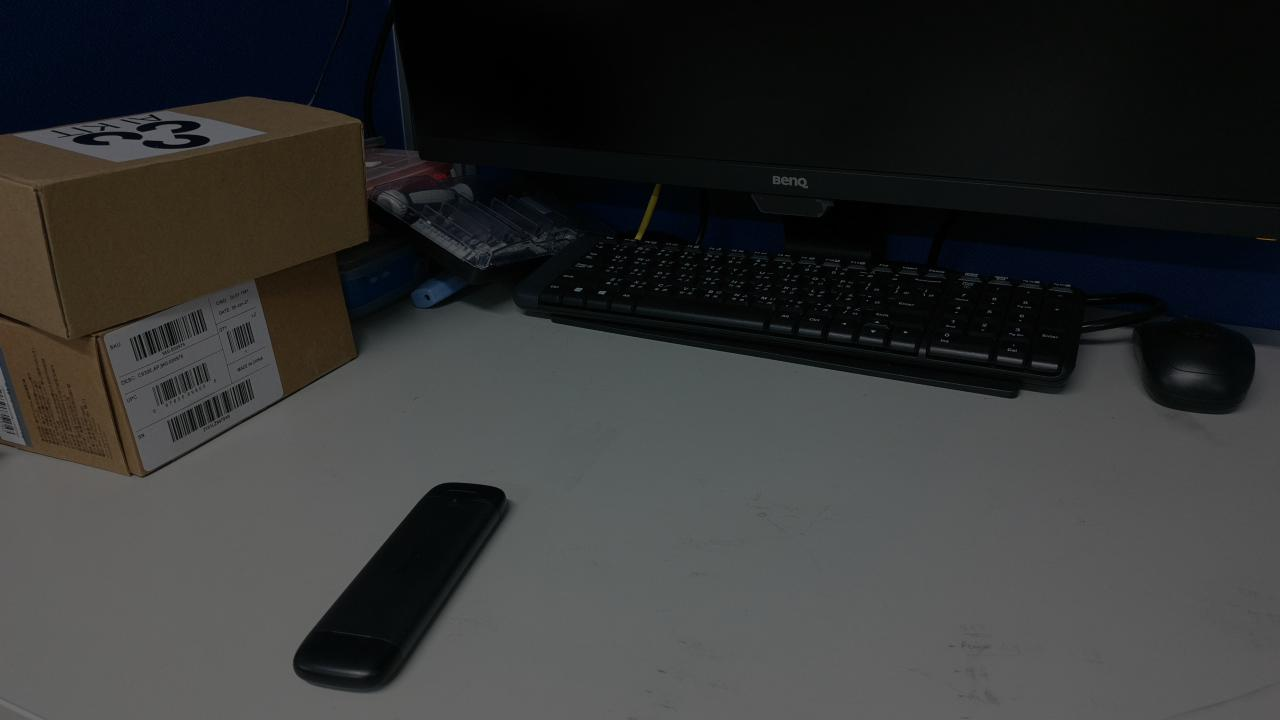blade: (532, 518, 569, 569)
grasp: (415, 552, 650, 684)
